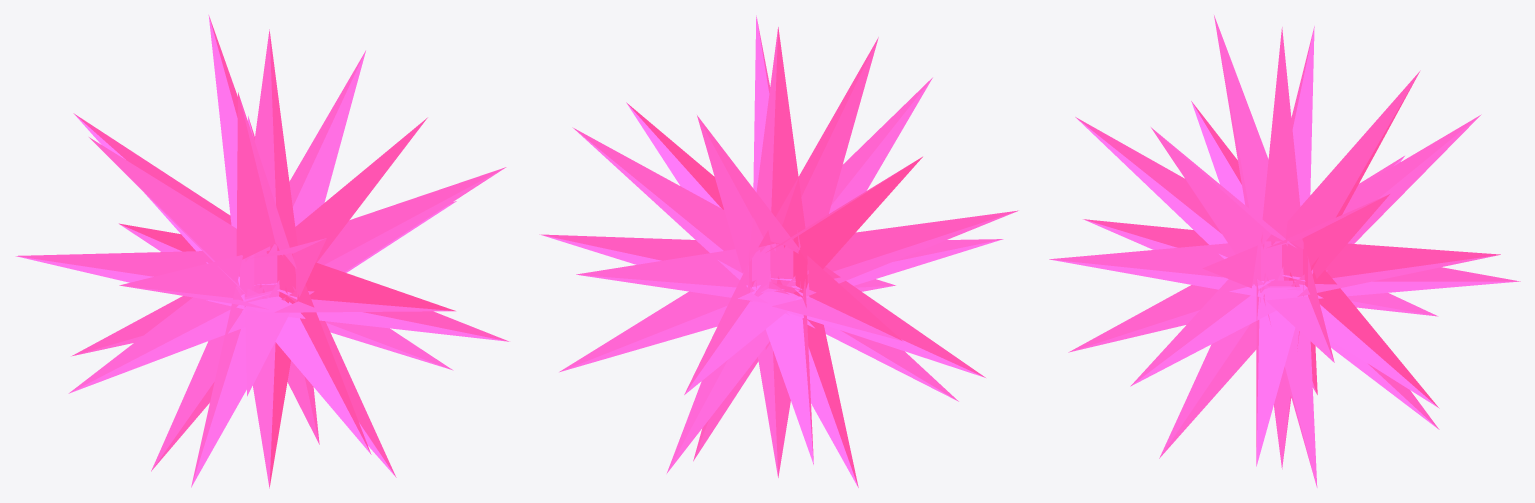
File: burst_rose.glb
3 renders of one model, left to right at view 1: azimuth 30°, elevation 25°; view 2: azimuth 150°, elevation 25°; view 3: azimuth 270°, elevation 25°, orthographic. The views are drawn at different scales.
Visible parts, largest first — view 1: burst; view 2: burst; view 3: burst.
Boxes of the visible parts, left/top/right/bottom form: burst: left=15, top=15, right=509, bottom=488; burst: left=539, top=15, right=1018, bottom=487; burst: left=1049, top=15, right=1520, bottom=487.
Bounding box in the file's own units: 1.19 × 1.24 × 1.2.
